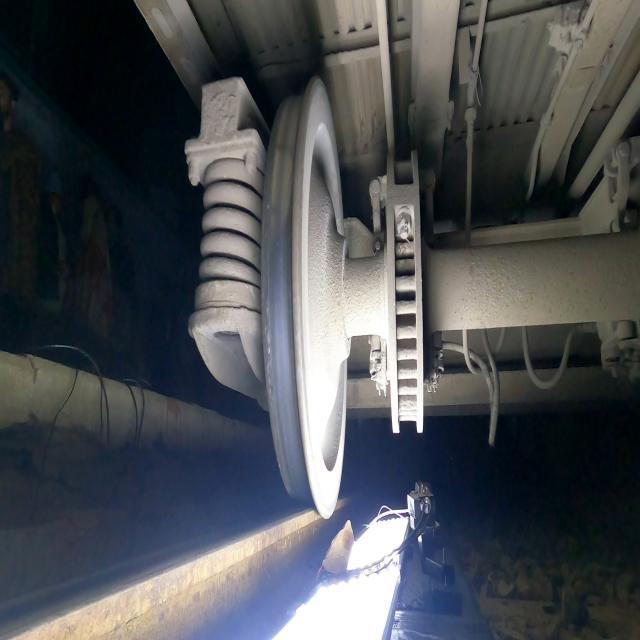Cracks-Scratches: (264, 324, 275, 400)
Shelling: (271, 97, 303, 236)
Wheel: (261, 78, 350, 518)
